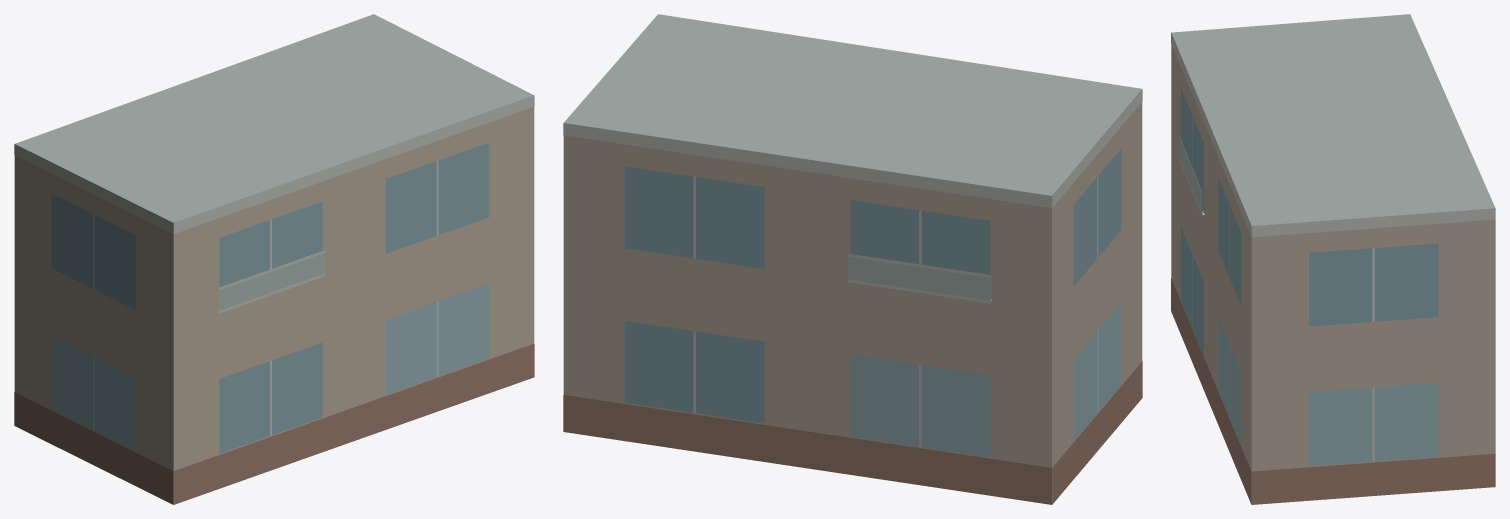
Rendered from survey-upis-32825607.glb.
The picture shows the model from 3 angles, left to right: view 1: azimuth 30°, elevation 25°; view 2: azimuth 150°, elevation 25°; view 3: azimuth 270°, elevation 25°; orthographic projection. The views are drawn at different scales.
Parts seen in each view (by area): view 1: survey-upis-32825607.tmp; view 2: survey-upis-32825607.tmp; view 3: survey-upis-32825607.tmp.
Boxes of the visible parts, x1=… form: survey-upis-32825607.tmp: x1=14, y1=14, x2=534, y2=504; survey-upis-32825607.tmp: x1=563, y1=14, x2=1142, y2=504; survey-upis-32825607.tmp: x1=1171, y1=14, x2=1495, y2=504.
Size of the model in its own units: 9.97 by 6.1 by 6.44.
